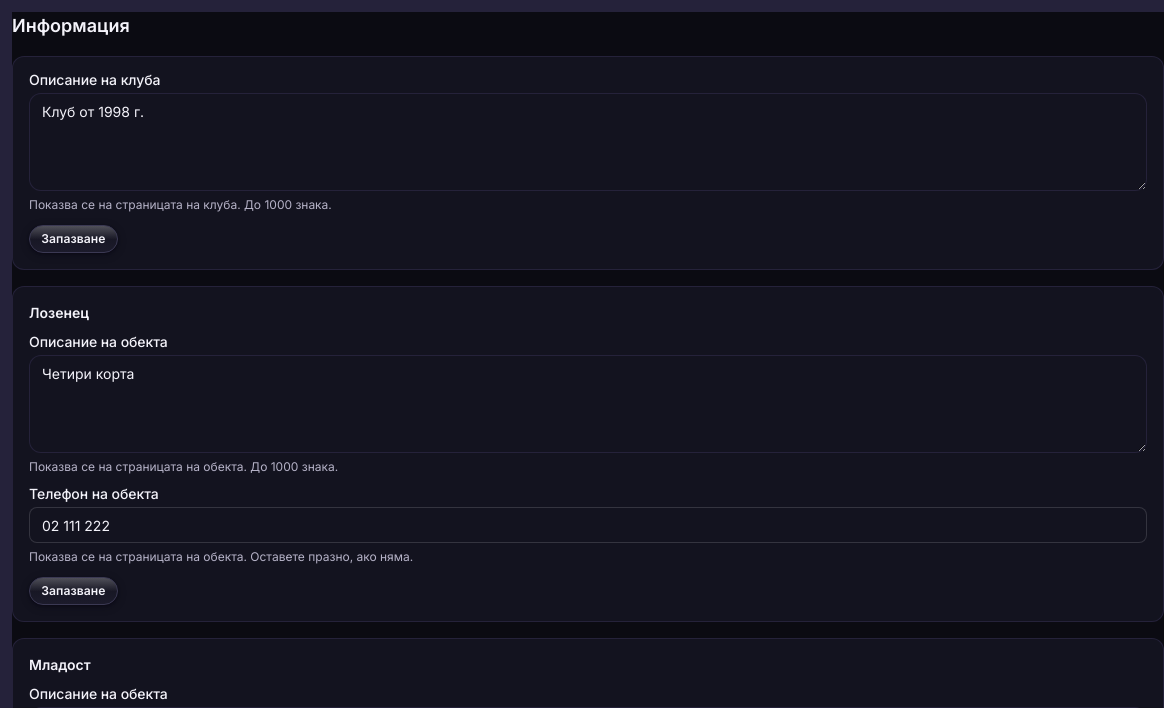
Scenario: the club’s «Информация» › saves the club’s description for this club, and says it is saved
Replace the text in the text box labelled "Описание на клуба" with "Нов текст" at [588, 142], box top-left (29, 93), bottom-right (1147, 191)
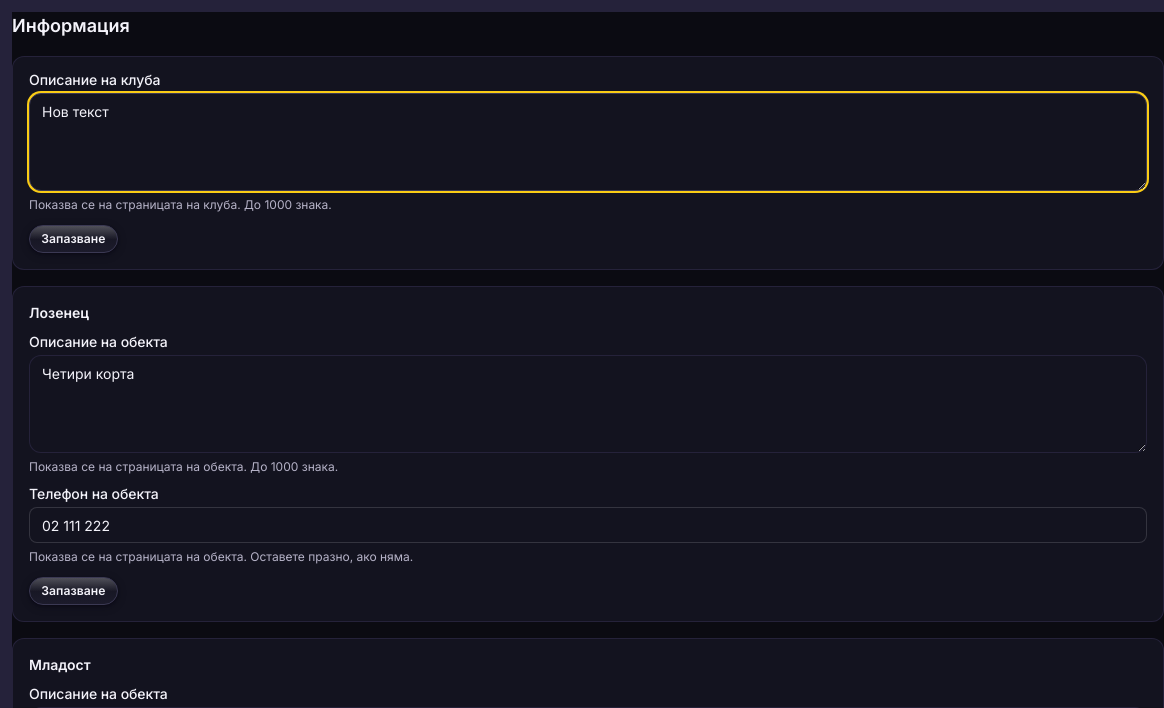
Click the button "Запазване" below "Описание на клуба".
click(73, 239)  # box top-left (29, 225), bottom-right (118, 253)
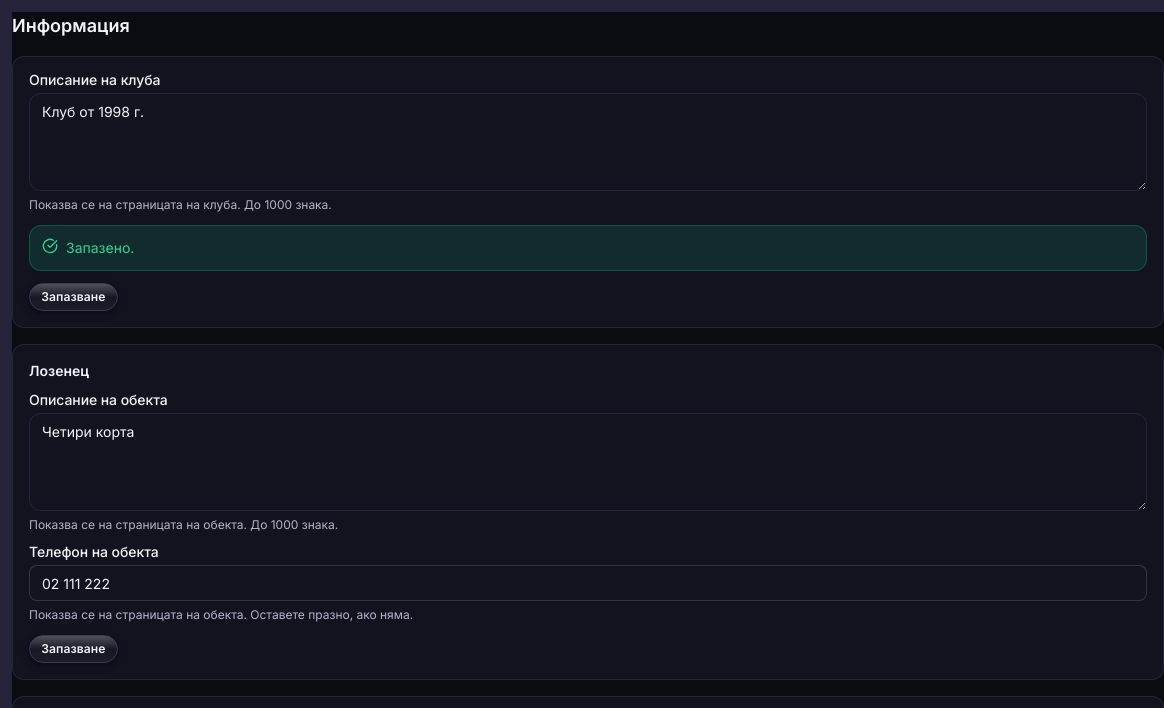
Expected: the text "Запазено." is shown, top-left (66, 239), bottom-right (134, 256)
